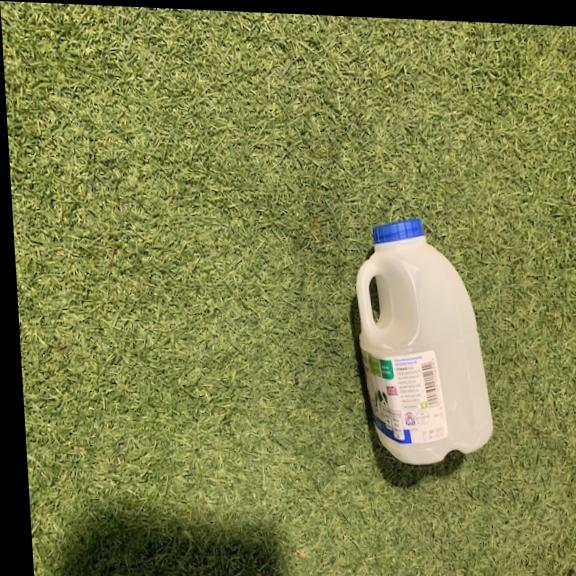Plastik: (343, 208, 509, 474)
